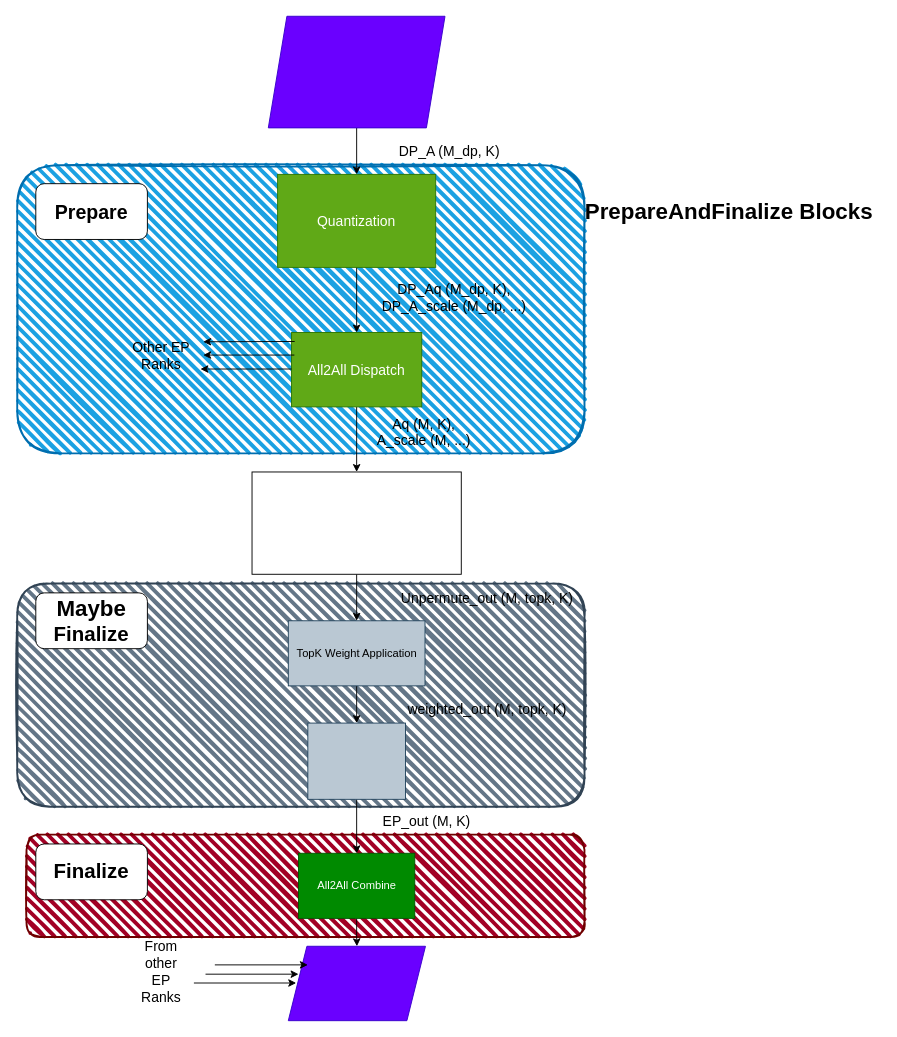
Some shapes in this 897 by 1037 pixel diagram are drawn without their labels. The centre of each missing label's shape, as x and y in pixels:
"DP_A (FusedMoE input Activations)" goes at pixel 356 71.
"DP_out (M_dp, K)" goes at pixel 356 983.
"Permute + MM1 + Act_Mul + Quant + MM2 + UnPermute" goes at pixel 356 522.
"Reduce" goes at pixel 356 760.
